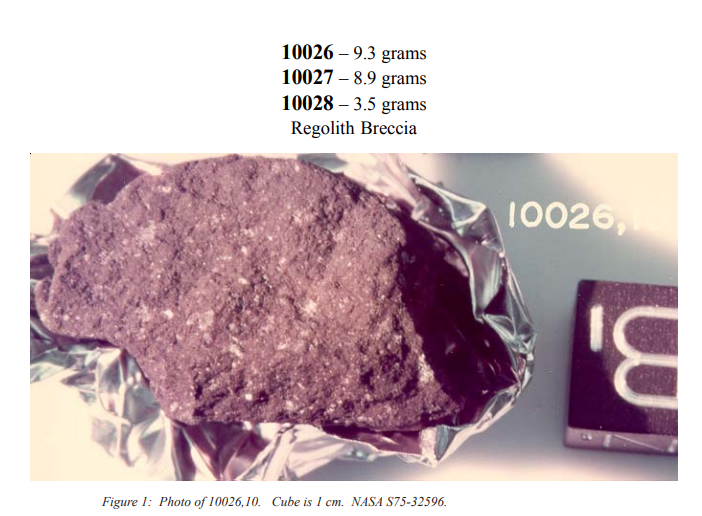Breccia: (34, 153, 503, 467)
